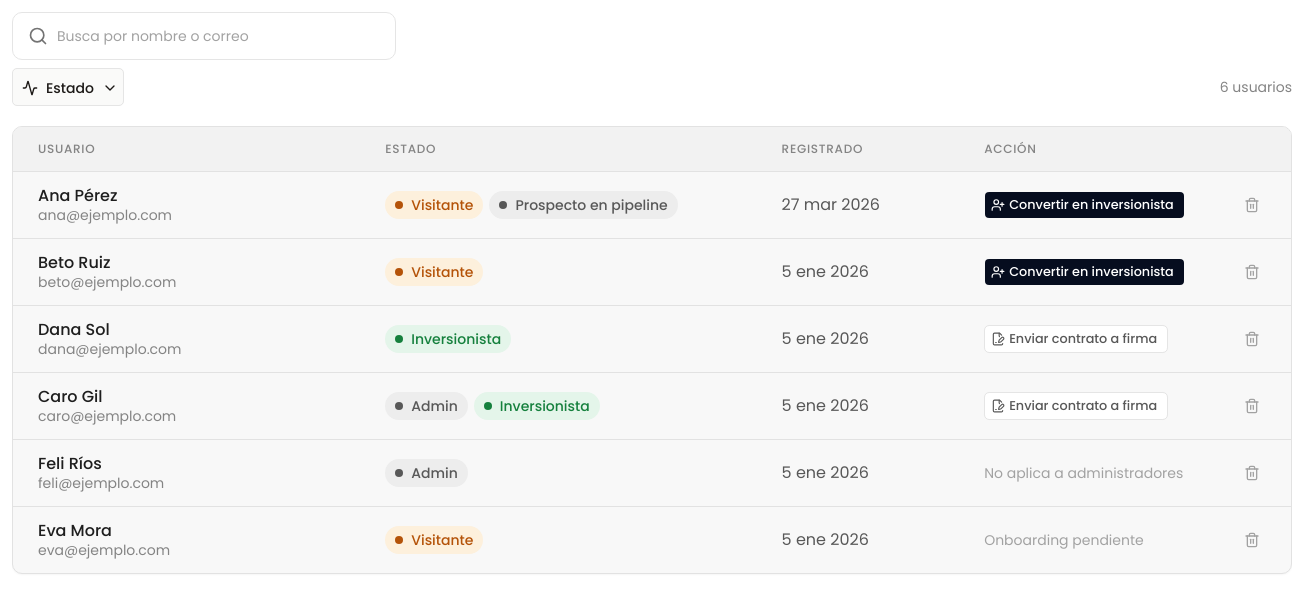
search and filter › narrows the list by name
The width and height of the screenshot is (1304, 591).
Type "beto" into the search field labelled "Busca por nombre o correo" at {"x": 204, "y": 36}, box [12,12,396,60]
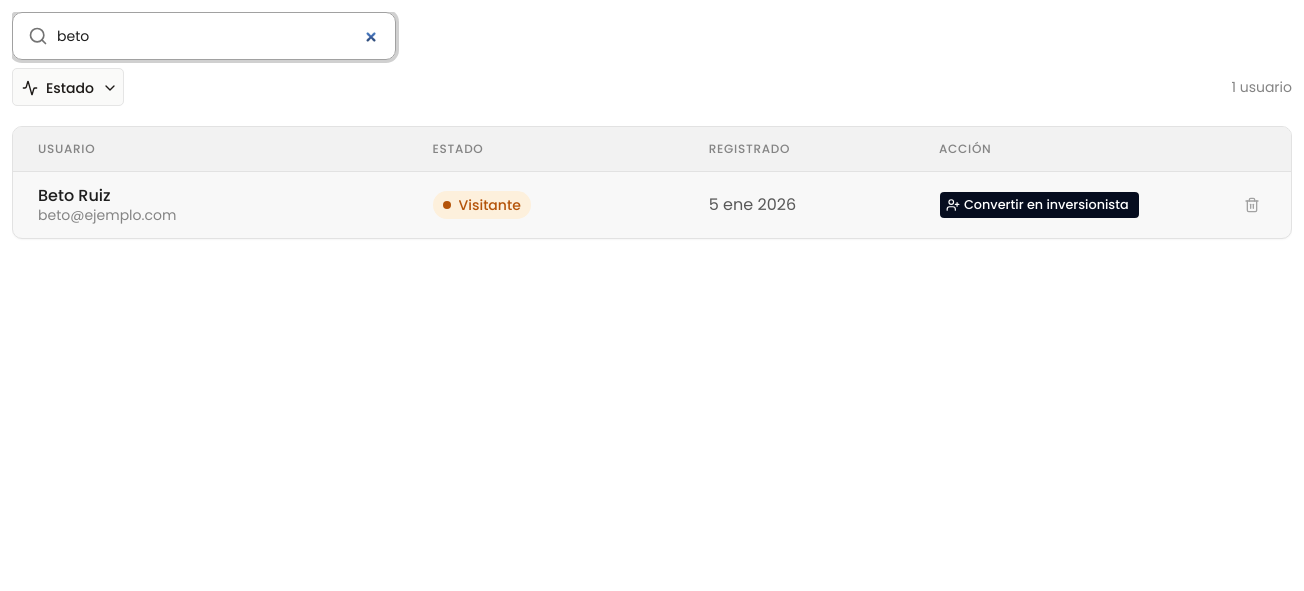
Check: the text "Beto Ruiz" is shown, box [38,184,110,207]
Check: the text "Ana Pérez" is gone
